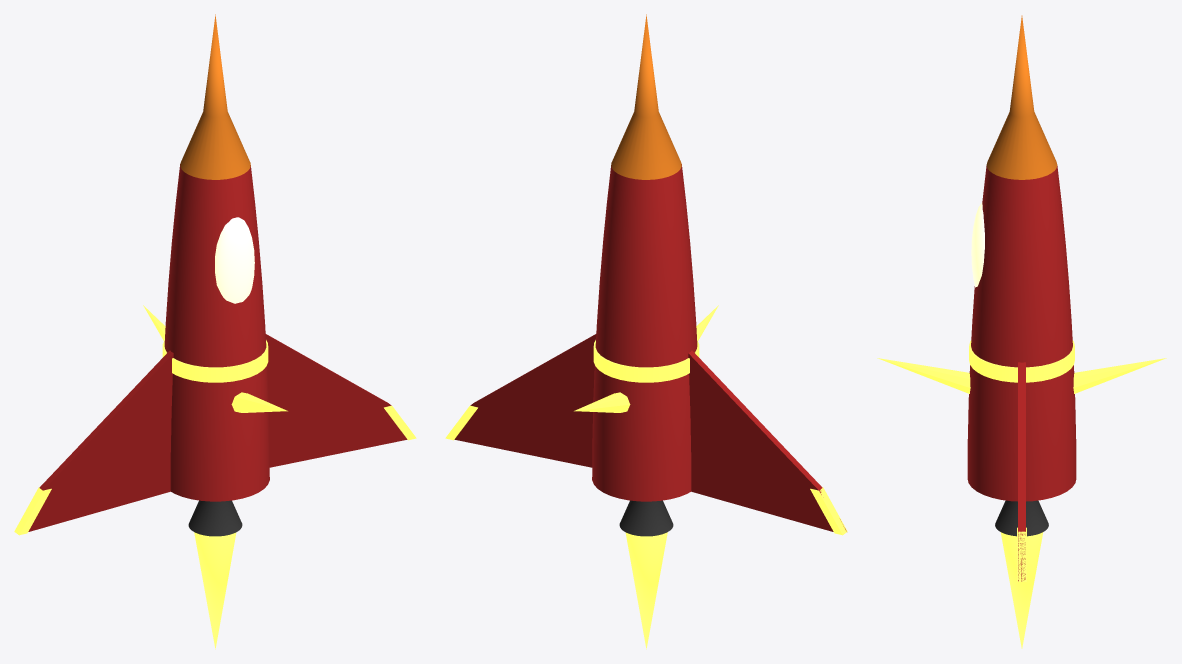
The model's file is Rocket_36_InfernoFighter.fbx.
3 renders of one model, left to right at view 1: azimuth 30°, elevation 25°; view 2: azimuth 150°, elevation 25°; view 3: azimuth 270°, elevation 25°, orthographic.
Parts seen in each view (by area): view 1: R36_Body, R36_Fin_2, R36_Fin_1, R36_Nose, R36_Cockpit, R36_Flame_1, R36_Band_1, R36_Nozzle_1, R36_Spike_2, R36_FinGlow_2; view 2: R36_Body, R36_Fin_2, R36_Fin_1, R36_Nose, R36_Flame_1, R36_Band_1, R36_Nozzle_1, R36_Spike_1, R36_FinGlow_2; view 3: R36_Body, R36_Nose, R36_Flame_1, R36_Band_1, R36_Fin_1, R36_Nozzle_1, R36_Spike_1, R36_Spike_2, R36_Cockpit, R36_FinGlow_1.
Part boxes in pixels (box(x1,y1,x2,y2)): R36_Body: box(164, 164, 269, 501); R36_Fin_2: box(28, 350, 173, 531); R36_Fin_1: box(265, 334, 407, 467); R36_Nose: box(180, 14, 250, 179); R36_Cockpit: box(215, 217, 254, 303); R36_Flame_1: box(194, 532, 236, 649); R36_Band_1: box(162, 340, 268, 382); R36_Nozzle_1: box(188, 500, 242, 536); R36_Spike_2: box(231, 392, 287, 412); R36_FinGlow_2: box(14, 487, 51, 535); R36_Body: box(592, 164, 697, 501); R36_Fin_2: box(688, 350, 846, 531); R36_Fin_1: box(454, 334, 596, 467); R36_Nose: box(611, 14, 681, 179); R36_Flame_1: box(625, 532, 667, 649); R36_Band_1: box(593, 340, 699, 382); R36_Nozzle_1: box(619, 500, 673, 536); R36_Spike_1: box(574, 392, 630, 412); R36_FinGlow_2: box(810, 487, 847, 535); R36_Body: box(967, 166, 1076, 501); R36_Nose: box(986, 15, 1057, 179); R36_Flame_1: box(1000, 532, 1043, 648); R36_Band_1: box(969, 340, 1074, 382); R36_Fin_1: box(1018, 362, 1025, 581); R36_Nozzle_1: box(995, 500, 1048, 536); R36_Spike_1: box(1073, 358, 1166, 393); R36_Spike_2: box(877, 358, 970, 393); R36_Cockpit: box(971, 202, 984, 287); R36_FinGlow_1: box(1017, 527, 1026, 581).
Bounding box in the file's own units: 7.16 × 10.95 × 4.54.
